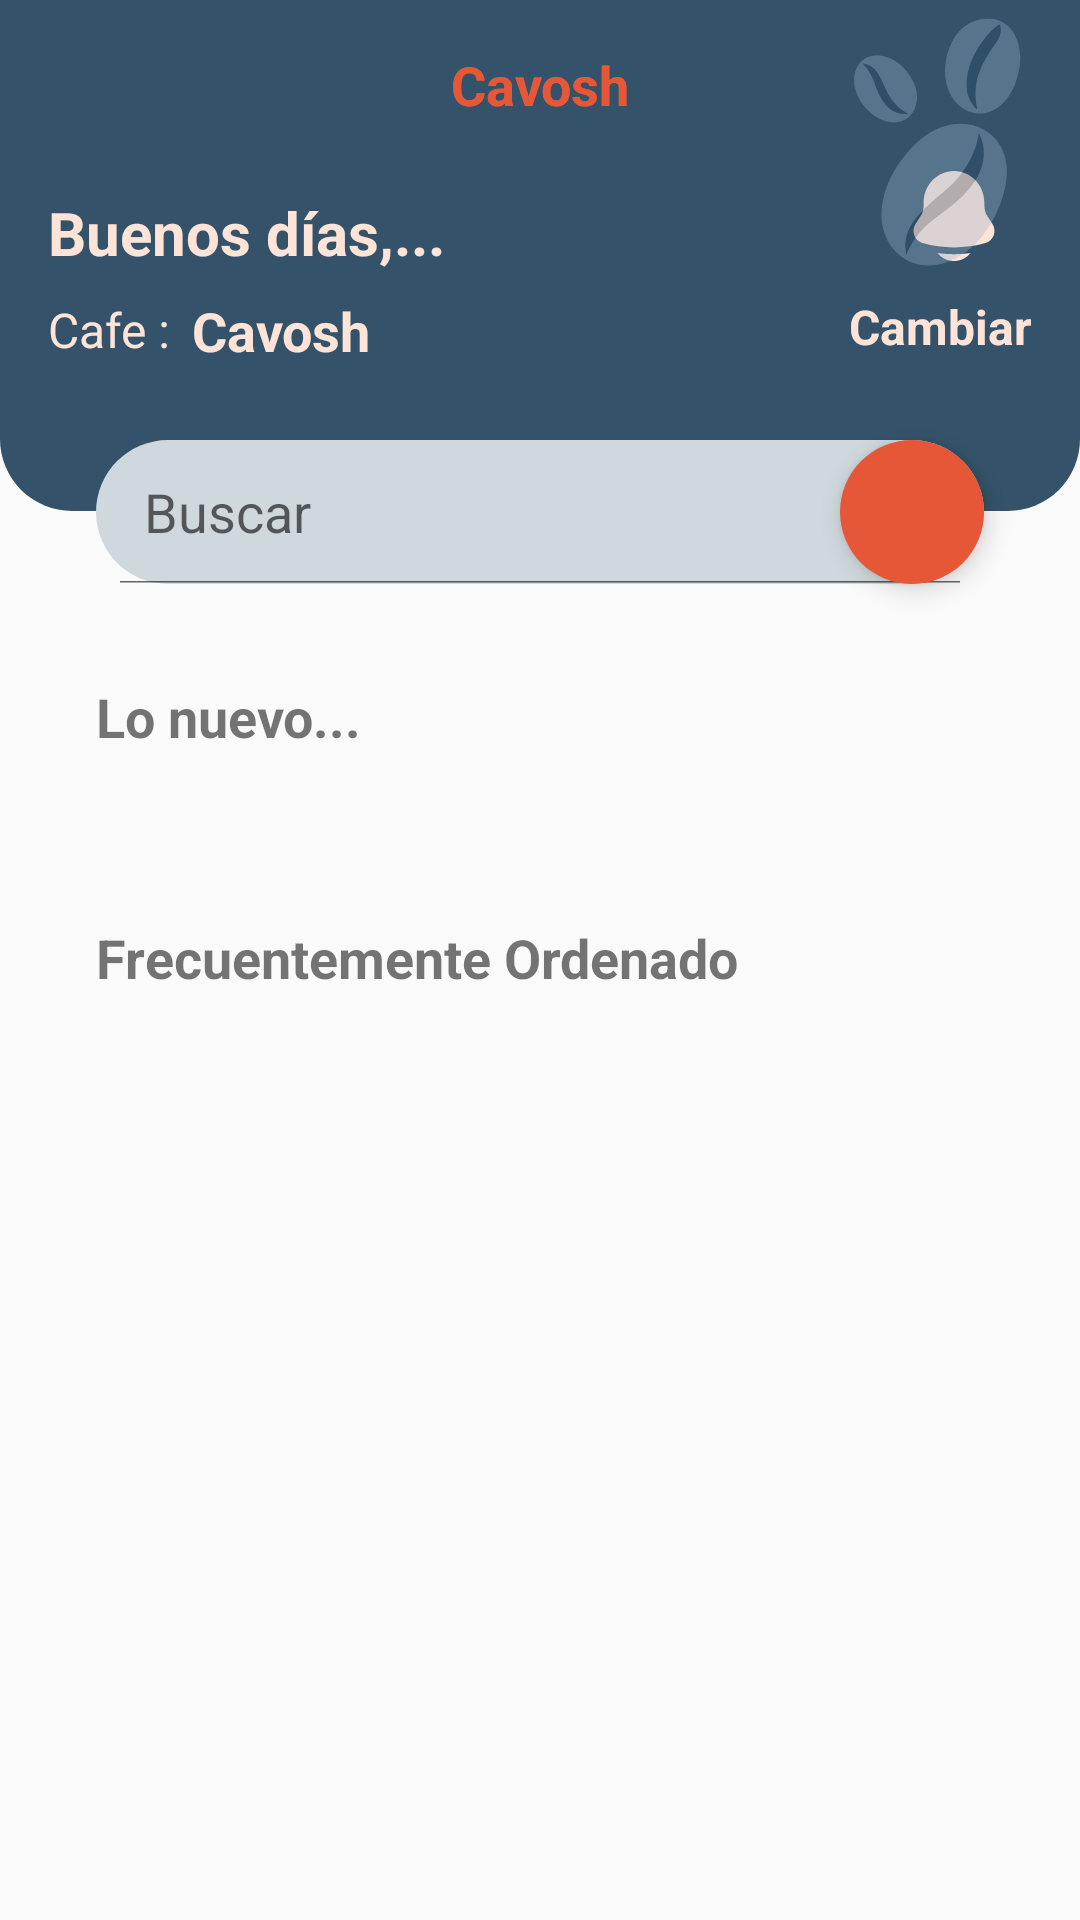

Locate icon controls on the screen. Image size 1080w x 1920h, boxes as (x1, y1, x2, y2).
bell: (900, 162, 1007, 265)
